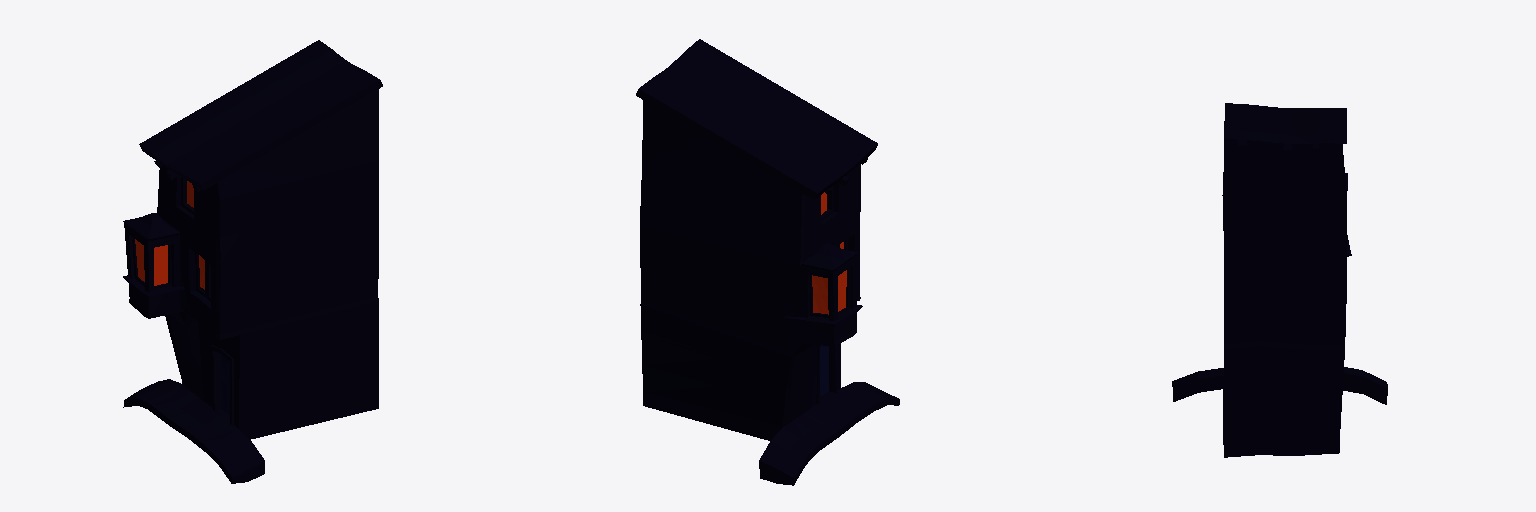
The model's file is house01.1.obj.
3 views of the same model, side by side, from view 1: azimuth 30°, elevation 25°; view 2: azimuth 150°, elevation 25°; view 3: azimuth 270°, elevation 25° (orthographic).
Parts seen in each view (by area): view 1: House01; view 2: House01; view 3: House01.
Part boxes in pixels (x1,y1,x2,y2): House01: (123,40,382,483); House01: (636,39,899,485); House01: (1172,103,1387,457).
Bounding box in the file's own units: 14.99 × 24.51 × 13.8.